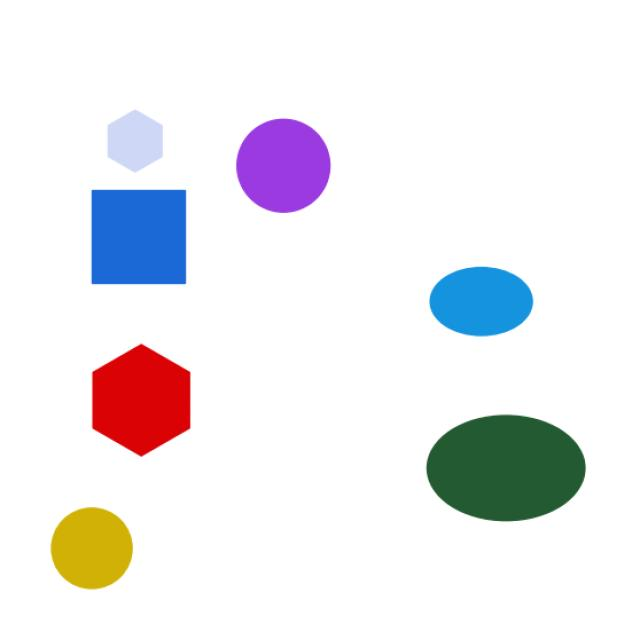Circle: (46, 492, 158, 606), (231, 118, 337, 224)
Hexagon: (83, 335, 201, 465), (97, 112, 178, 183)
Oval: (419, 410, 608, 522), (419, 255, 556, 342)
square: (76, 182, 202, 303)
